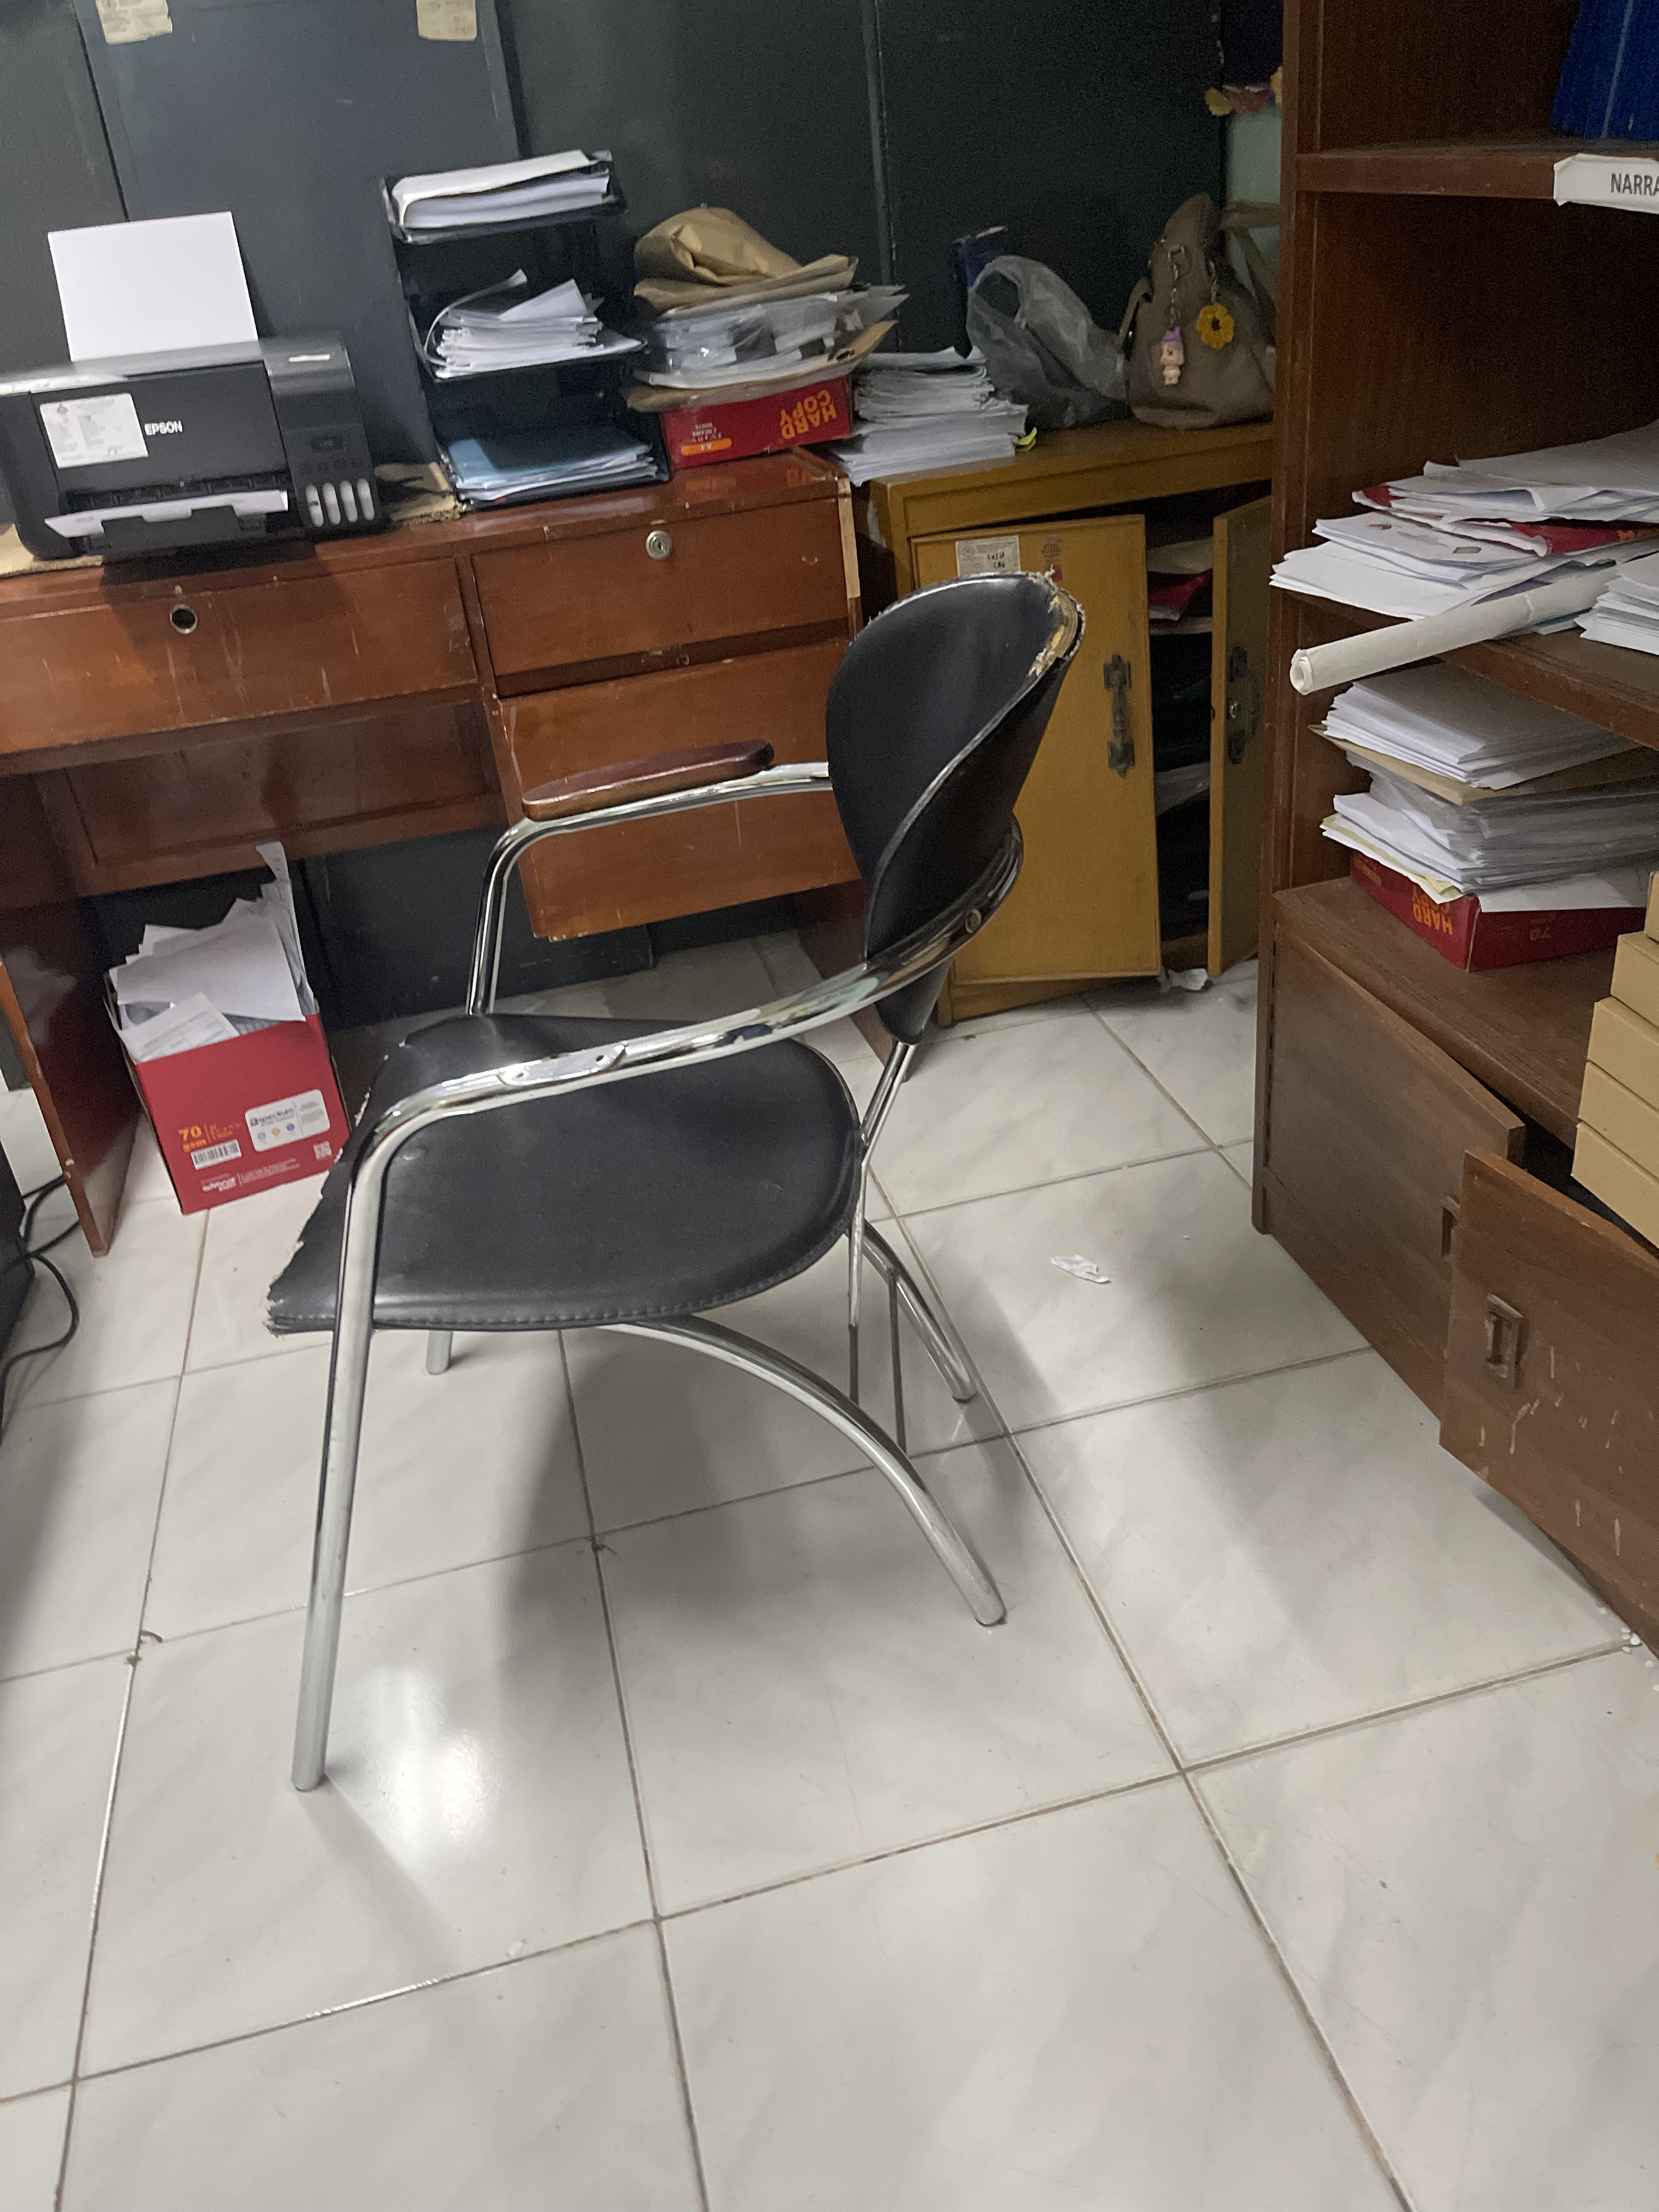chair1: (261, 571, 1084, 1815)
